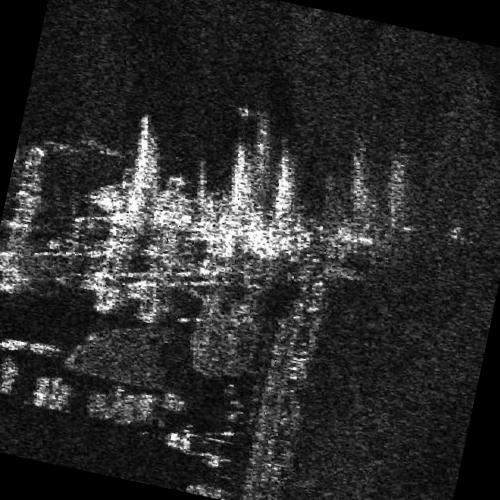ship: (89, 181, 311, 259)
